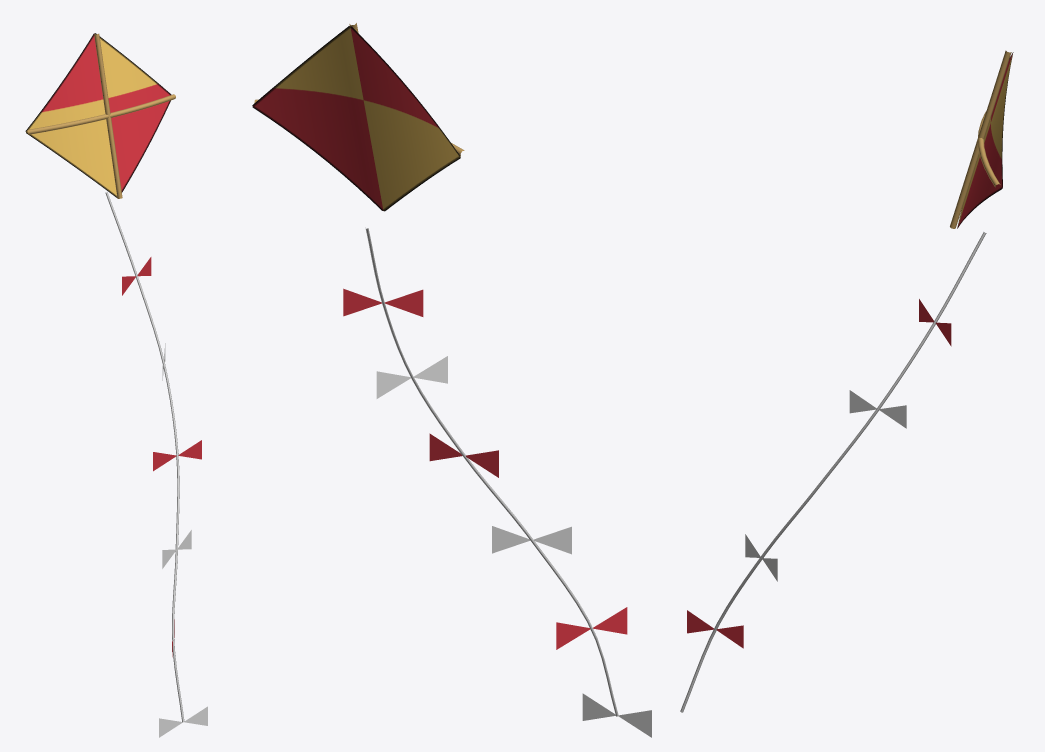
The model's file is capucheta-1.glb.
3 views of the same model, side by side, from view 1: azimuth 30°, elevation 25°; view 2: azimuth 150°, elevation 25°; view 3: azimuth 270°, elevation 25° (orthographic). The views are drawn at different scales.
Visible parts, largest first — view 1: capucheta-1; view 2: capucheta-1; view 3: capucheta-1.
Boxes of the visible parts, x1,y1,x2,y2 form: capucheta-1: (25,33,207,737); capucheta-1: (252,23,651,737); capucheta-1: (680,50,1013,712).
Bounding box in the file's own units: 0.7882 × 2.98 × 1.35.
5 materials, 1 textured.
